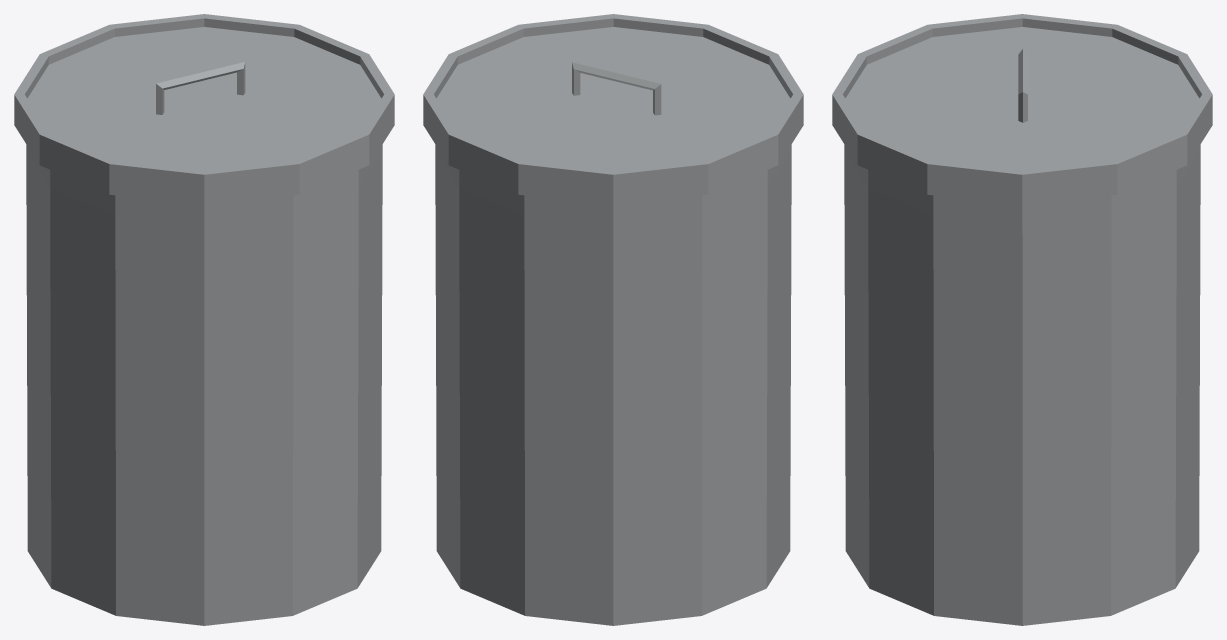
The model's file is SM_garbagecan_metal_01.fbx.
The picture shows the model from 3 angles, left to right: view 1: azimuth 30°, elevation 25°; view 2: azimuth 150°, elevation 25°; view 3: azimuth 270°, elevation 25°; orthographic projection.
Visible parts, largest first — view 1: Line005; view 2: Line005; view 3: Line005.
Part boxes in pixels (x1=…): Line005: x1=14, y1=14, x2=394, y2=625; Line005: x1=423, y1=14, x2=803, y2=625; Line005: x1=832, y1=14, x2=1212, y2=625.
Bounding box in the file's own units: 25.37 × 25.37 × 35.26.
